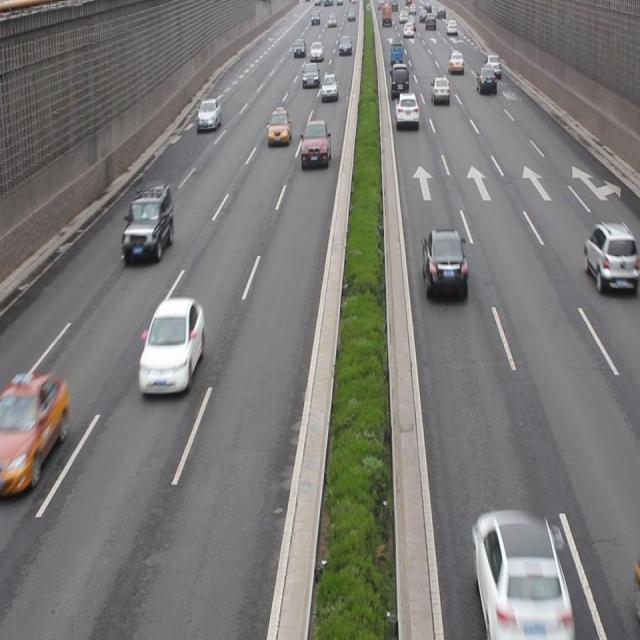car: (472, 506, 570, 634), (1, 368, 72, 496), (140, 296, 207, 398), (583, 218, 640, 294), (122, 187, 174, 261), (420, 223, 468, 301), (300, 117, 330, 167), (265, 106, 291, 146), (196, 98, 220, 132)
